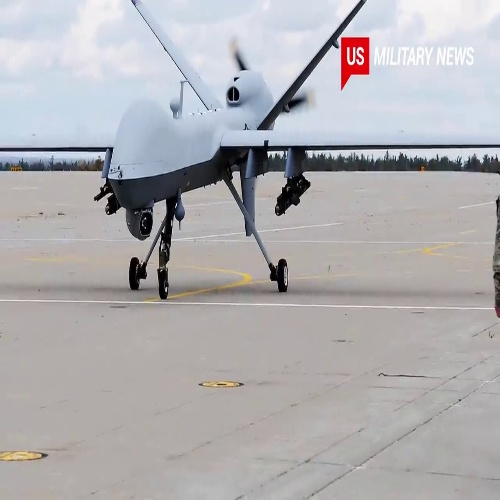uav171: (4, 3, 497, 300)
